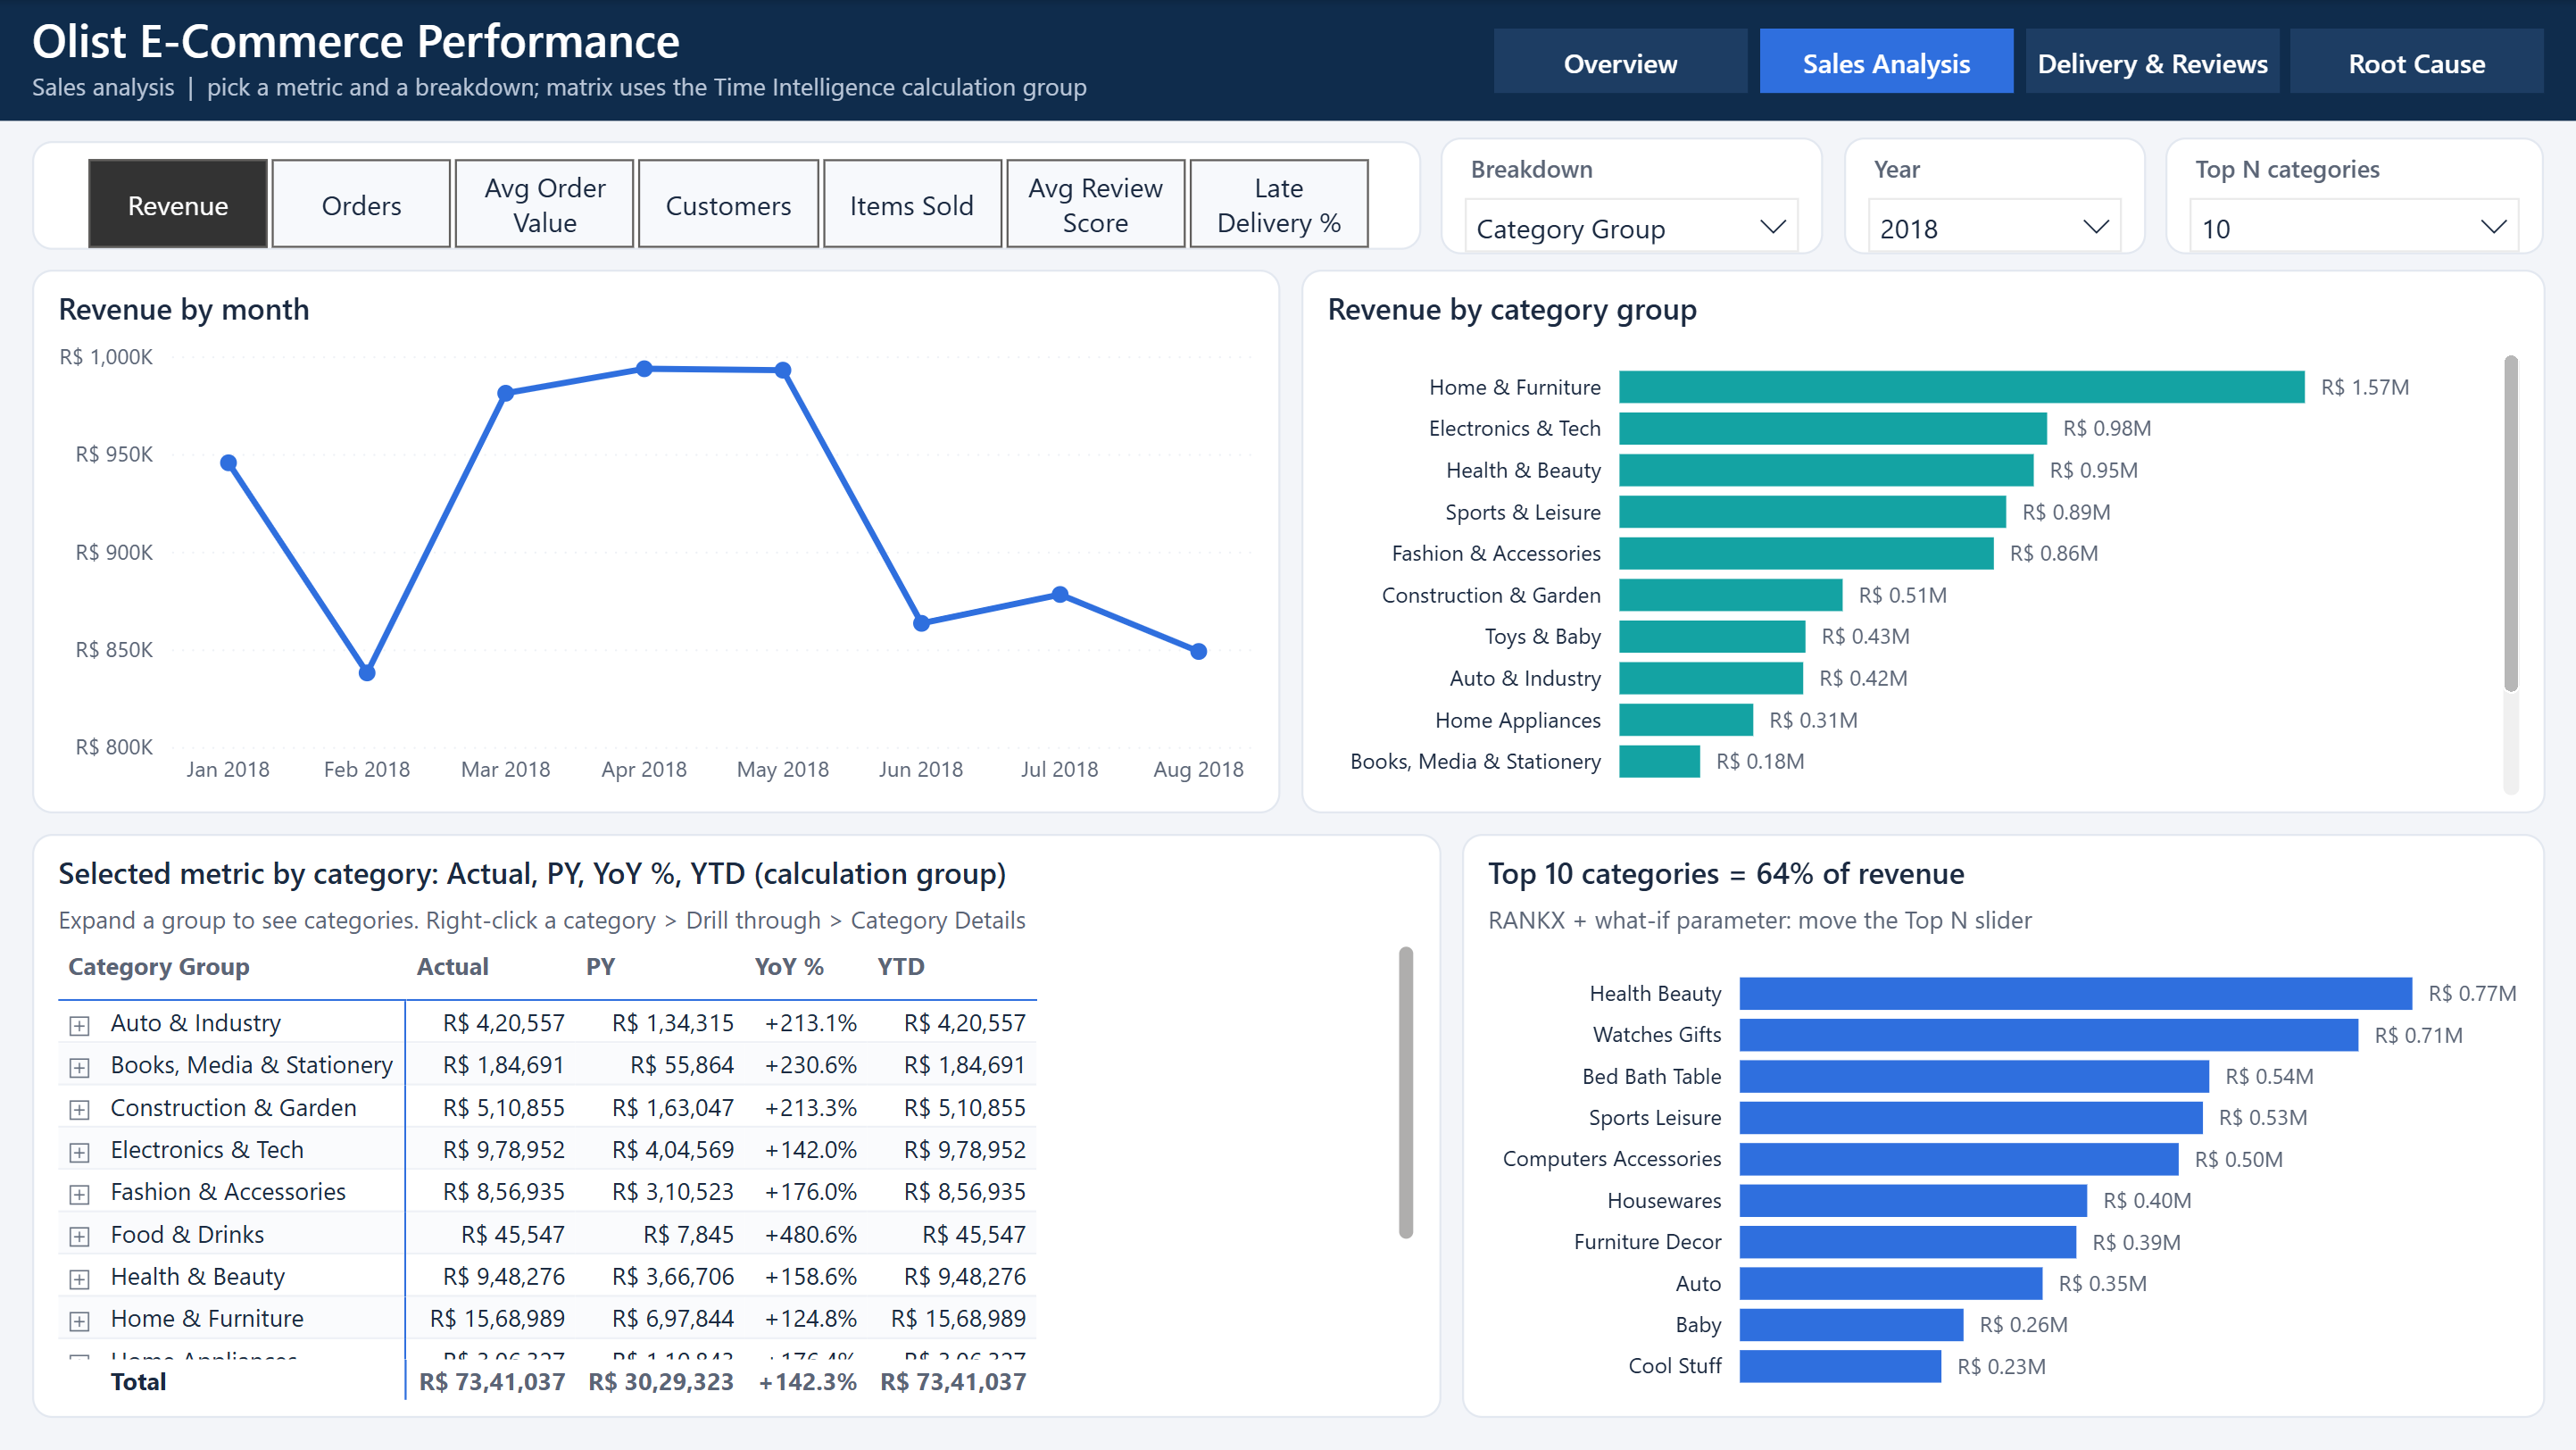

What the dashboard file says about the page in this screenshot:
{"tool":"powerbi","page":{"name":"Sales Analysis","canvas":[1280,720],"ordinal":1},"visuals":[{"type":"shape","box":[0,0,1280,60],"z":4600},{"type":"textbox","box":[16,4,620,54],"z":4700},{"type":"actionButton","box":[742,14,126,32],"z":4800},{"type":"actionButton","box":[874,14,126,32],"z":4900},{"type":"actionButton","box":[1006,14,126,32],"z":5000},{"type":"actionButton","box":[1138,14,126,32],"z":5100},{"type":"slicer","fields":{"Values":["Metric Selector.Metric"]},"box":[16,70,690,54],"z":5200},{"type":"slicer","fields":{"Values":["Breakdown Selector.Breakdown"]},"box":[716,68,190,58],"z":5300},{"type":"slicer","fields":{"Values":["Date.Year"]},"box":[916,68,150,58],"z":5400},{"type":"slicer","fields":{"Values":["Top N.Top N"]},"box":[1076,68,188,58],"z":5500},{"type":"lineChart","fields":{"Category":["Date.Year Month"],"Y":["_Measures.Revenue"]},"box":[16,134,620,270],"z":5600},{"type":"clusteredBarChart","fields":{"Category":["Product.Category Group"],"Y":["_Measures.Revenue"]},"box":[646,134,618,270],"z":5700},{"type":"pivotTable","title":"Selected metric by category: Actual, PY, YoY %, YTD (calculation group)","fields":{"Columns":["Time Intelligence.Time Calculation"],"Rows":["Product.Category Group","Product.Category"],"Values":["_Measures.Revenue"]},"box":[16,414,700,290],"z":5800},{"type":"clusteredBarChart","fields":{"Category":["Product.Category"],"Y":["_Measures.Revenue (Top N Categories)"]},"box":[726,414,538,290],"z":5900}]}

Visuals, with their boxes in screenshot pixels (x1, y1, x2, y2), scaled from the page's 1280x720 canvas onto the 2576x1450 screenshot:
shape: box(0, 0, 2575, 121)
textbox: box(32, 8, 1280, 117)
actionButton: box(1493, 29, 1747, 93)
actionButton: box(1759, 29, 2013, 93)
actionButton: box(2024, 29, 2278, 93)
actionButton: box(2290, 29, 2544, 93)
slicer - Metric Selector.Metric: box(32, 141, 1421, 250)
slicer - Breakdown Selector.Breakdown: box(1441, 137, 1824, 254)
slicer - Date.Year: box(1843, 137, 2145, 254)
slicer - Top N.Top N: box(2165, 137, 2544, 254)
lineChart - Date.Year Month x _Measures.Revenue: box(32, 270, 1280, 813)
clusteredBarChart - Product.Category Group x _Measures.Revenue: box(1300, 270, 2544, 813)
"Selected metric by category: Actual, PY, YoY %, YTD (calculation group)" pivotTable: box(32, 834, 1441, 1418)
clusteredBarChart - Product.Category x _Measures.Revenue (Top N Categories): box(1461, 834, 2544, 1418)
